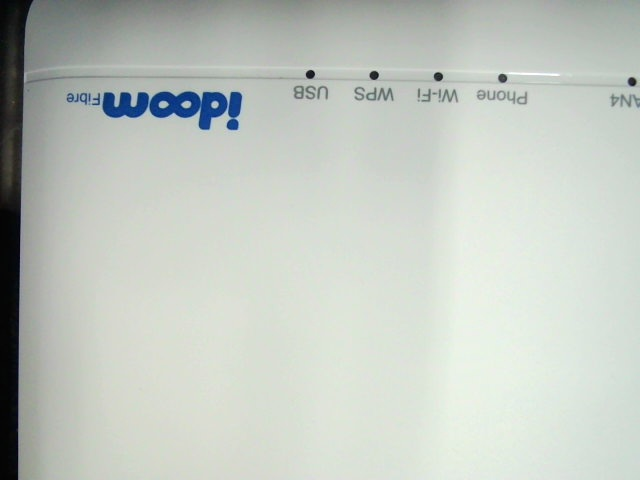BB_idoom: (58, 75, 248, 139)
